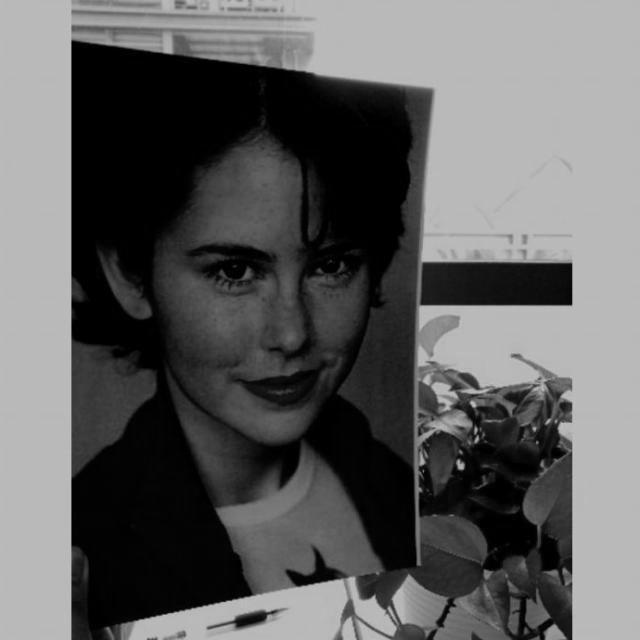fake: (71, 20, 424, 630)
